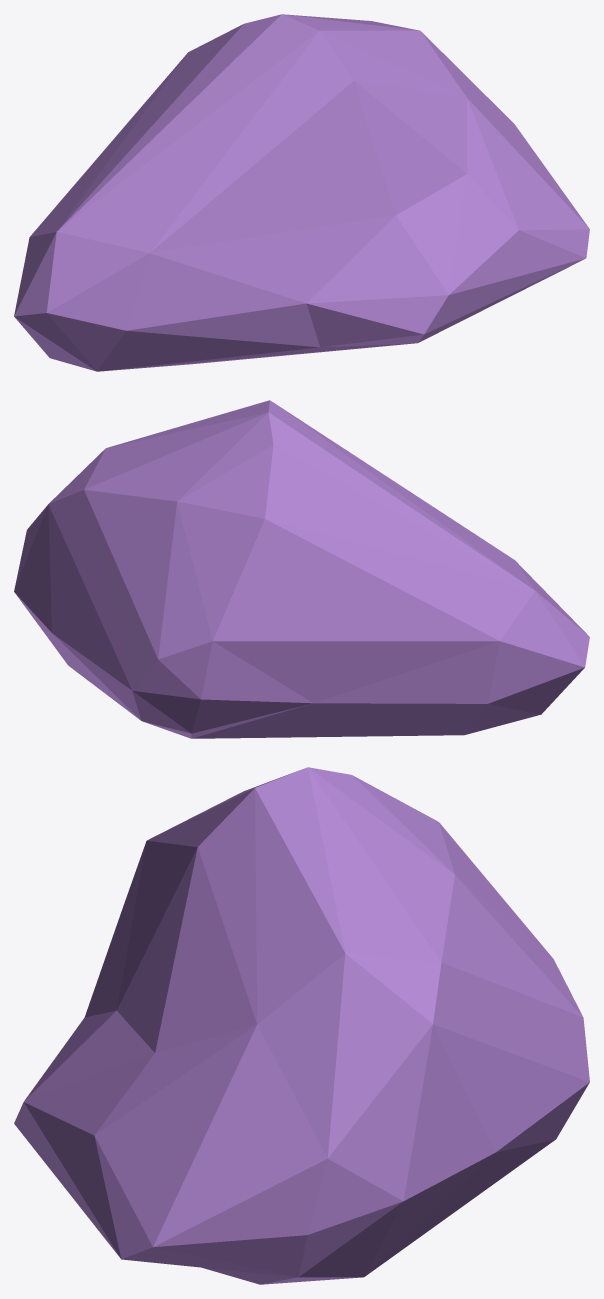
Rendered from boulder1.fbx.
The picture shows the model from 3 angles, top to bottom: view 1: azimuth 30°, elevation 25°; view 2: azimuth 150°, elevation 25°; view 3: azimuth 270°, elevation 25°; orthographic projection. The views are drawn at different scales.
Parts seen in each view (by area): view 1: boulder1; view 2: boulder1; view 3: boulder1.
Boxes of the visible parts, box(x1,y1,x2,y2) form: boulder1: box(14, 14, 589, 371); boulder1: box(14, 400, 589, 738); boulder1: box(14, 767, 589, 1284).
Size of the model in its own units: 710 by 380 by 482.
